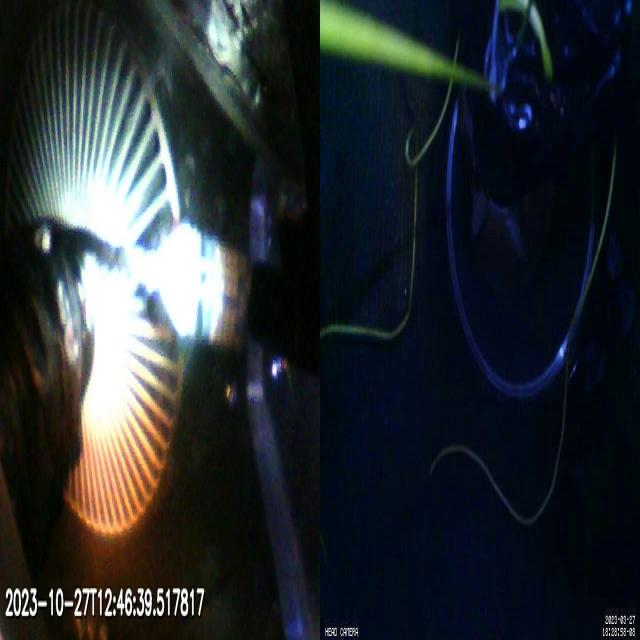head: (164, 224, 252, 349)
